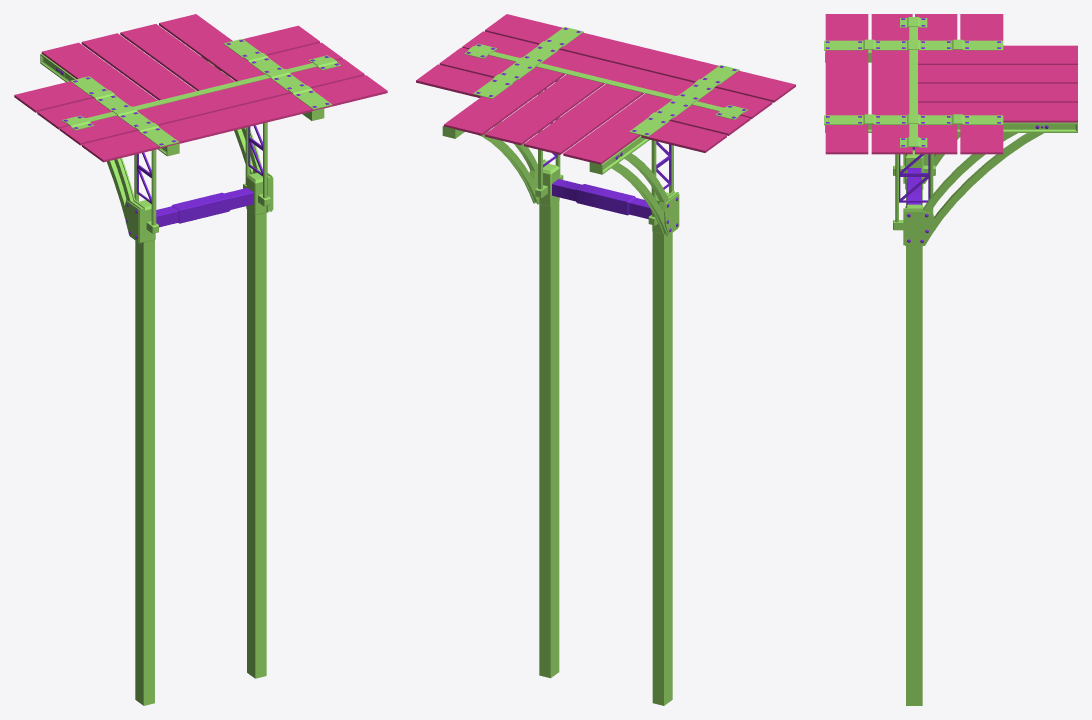
Rendered from Floor_01_Bridge_I_2x1_01_e.fbx.
3 renders of one model, left to right at view 1: azimuth 30°, elevation 25°; view 2: azimuth 150°, elevation 25°; view 3: azimuth 270°, elevation 25°, orthographic. The views are drawn at different scales.
Visible parts, largest first — view 1: Cylinder.002; view 2: Cylinder.002; view 3: Cylinder.002.
Part boxes in pixels (<box>): Cylinder.002: <box>14,14,387,705</box>; Cylinder.002: <box>416,14,795,705</box>; Cylinder.002: <box>824,14,1077,705</box>.
Bounding box in the file's own units: 200 × 401 × 155.
